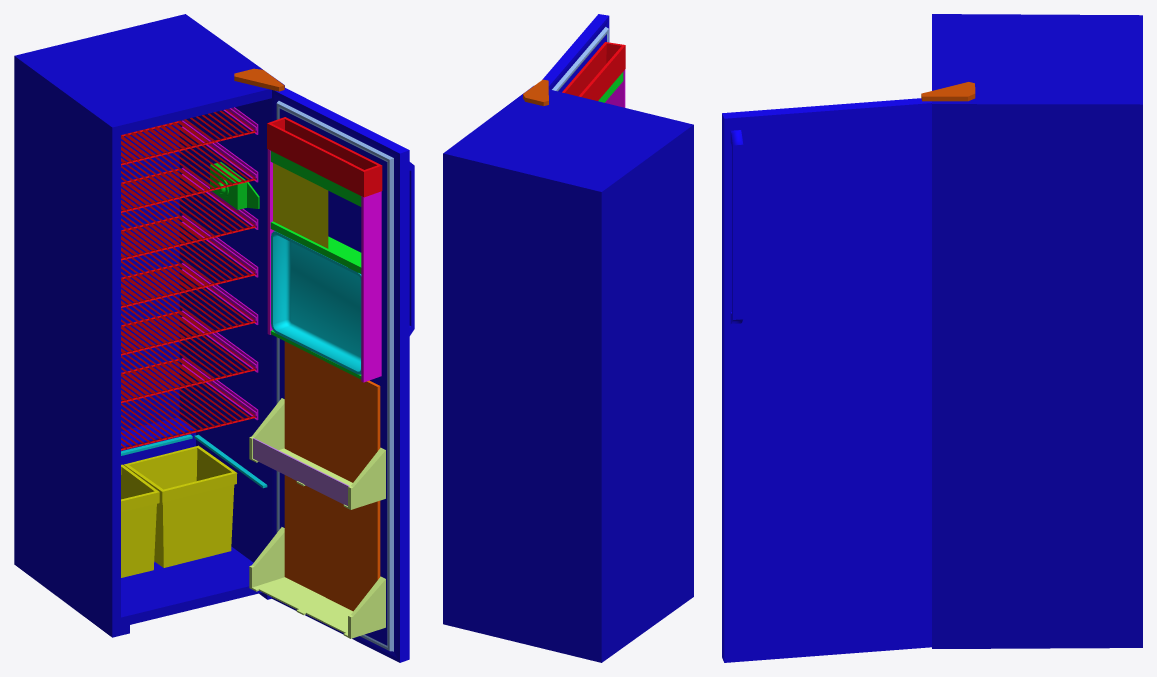
Rendered from Fridge.fbx.
The picture shows the model from 3 angles, left to right: view 1: azimuth 30°, elevation 25°; view 2: azimuth 150°, elevation 25°; view 3: azimuth 270°, elevation 25°; orthographic projection. The views are drawn at different scales.
Visible parts, largest first — view 1: Fridge_low, Door_low; view 2: Fridge_low, Door_low; view 3: Fridge_low, Door_low.
Boxes of the visible parts, x1,y1,x2,y2 form: Fridge_low: (14,14,284,637); Door_low: (249,88,414,662); Fridge_low: (443,79,693,662); Door_low: (542,14,625,107); Fridge_low: (921,14,1142,648); Door_low: (722,98,931,662).
Bounding box in the file's own units: 263 × 617 × 428.
